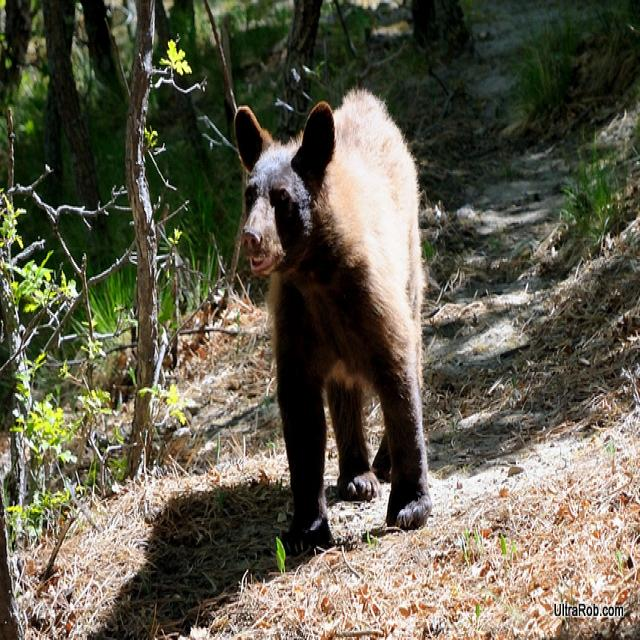Bear: (230, 70, 442, 548)
